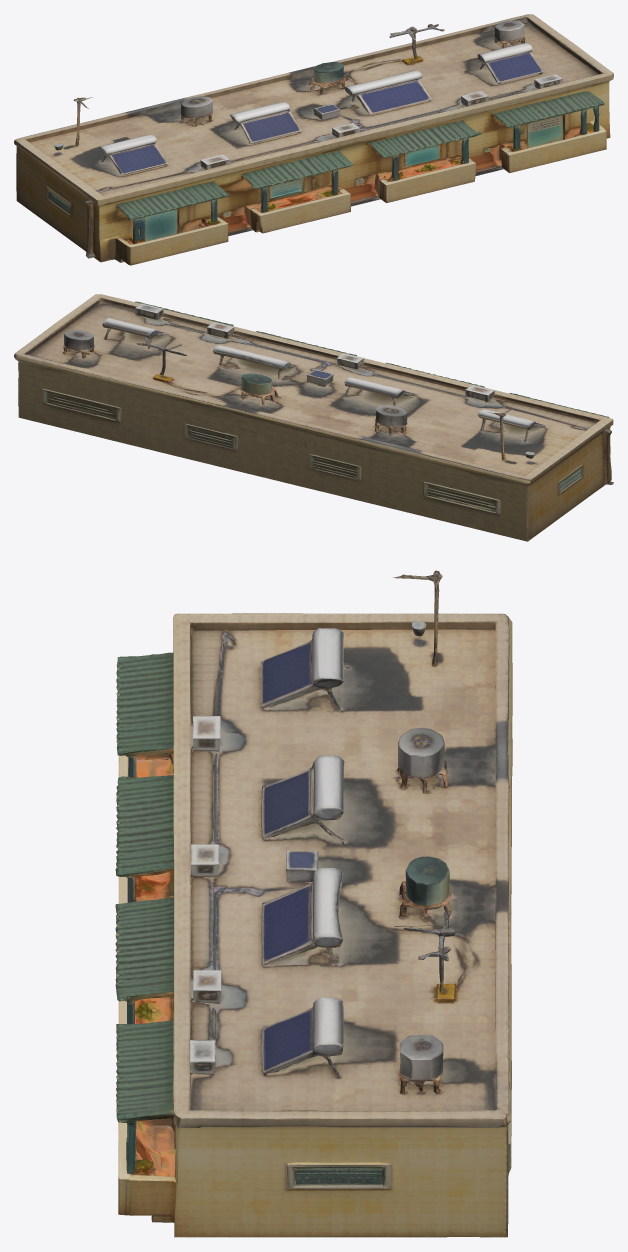
Rendered from r3_kibbutz_row_b.glb.
3 renders of one model, top to bottom at view 1: azimuth 30°, elevation 25°; view 2: azimuth 150°, elevation 25°; view 3: azimuth 270°, elevation 25°, orthographic. The views are drawn at different scales.
Visible parts, largest first — view 1: geometry_0; view 2: geometry_0; view 3: geometry_0.
Part boxes in pixels (bbox=[...]): geometry_0: bbox=[14, 14, 613, 265]; geometry_0: bbox=[14, 294, 613, 541]; geometry_0: bbox=[115, 570, 512, 1237].
Size of the model in its own units: 24.29 by 4.65 by 8.
Materials: 1 (1 with a texture image).
